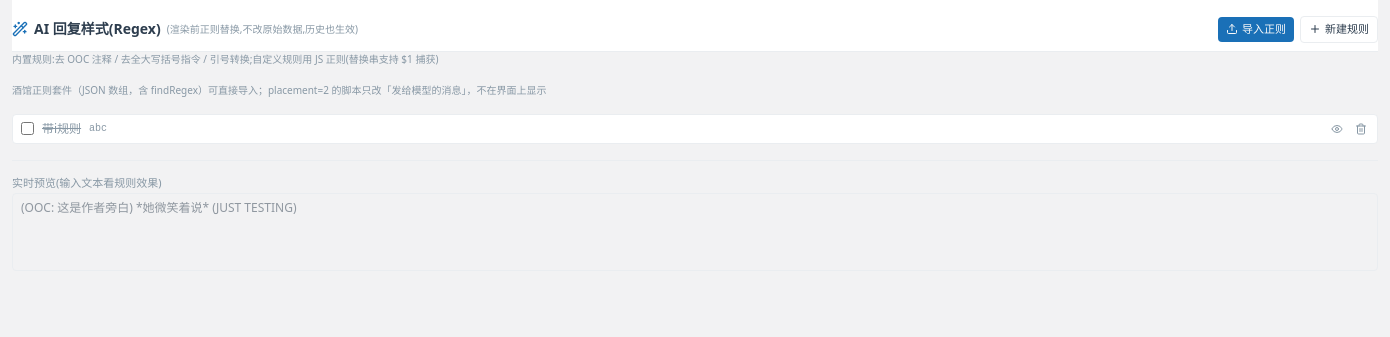
it: T-099 编辑保留 flags/enabled › 编辑带 i 的禁用规则后，flags/enabled/placement 不变
Step 1. Click the 3rd button → (1337, 128), box [1329,120,1345,136]
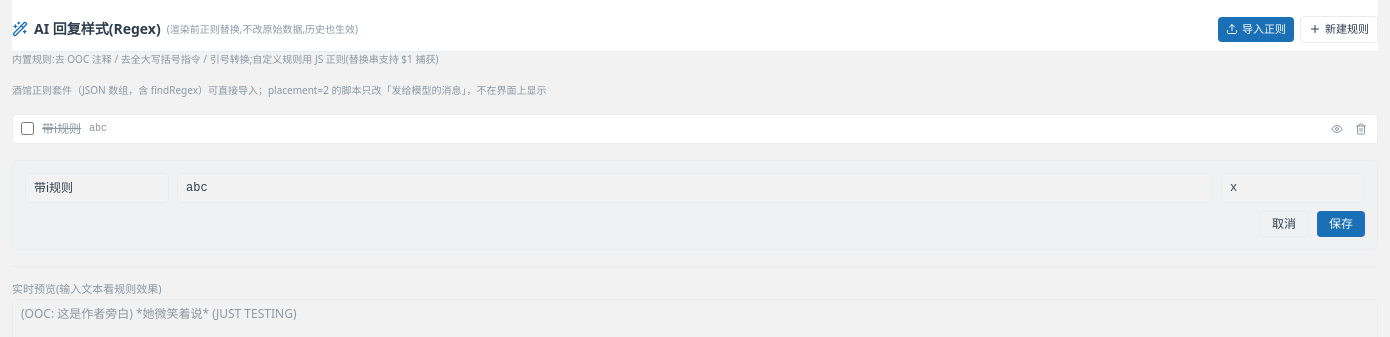
Step 2. Replace the text in the 2nd field with placeholder "正则 pattern" with "abcd" → (695, 188), box [177,172,1213,202]
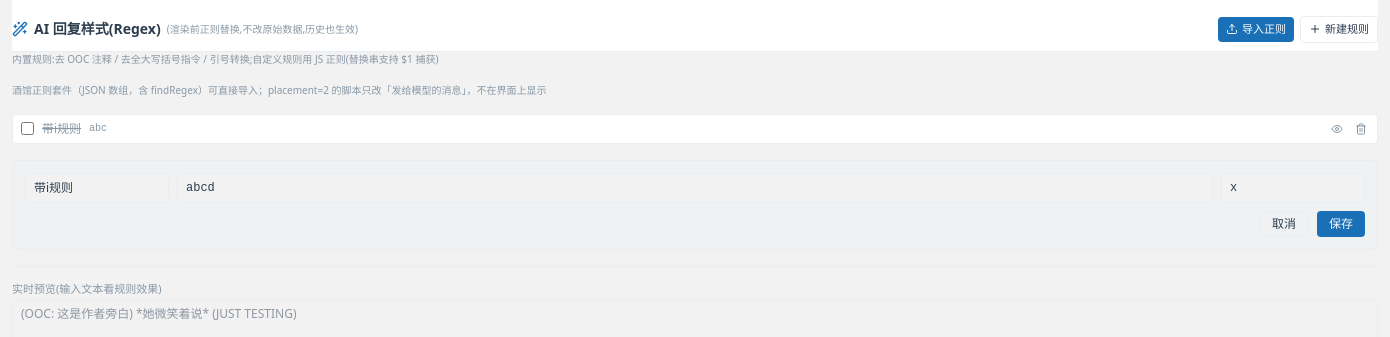
Step 3. Click the button "保存" → (1341, 224), box [1317,210,1365,236]
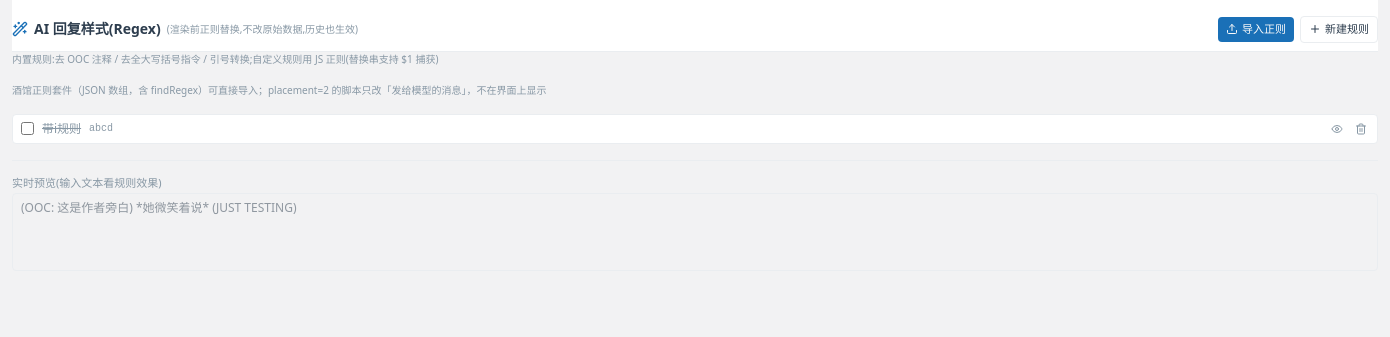
Result: the text "abcd" is shown at [89,123,113,134]
